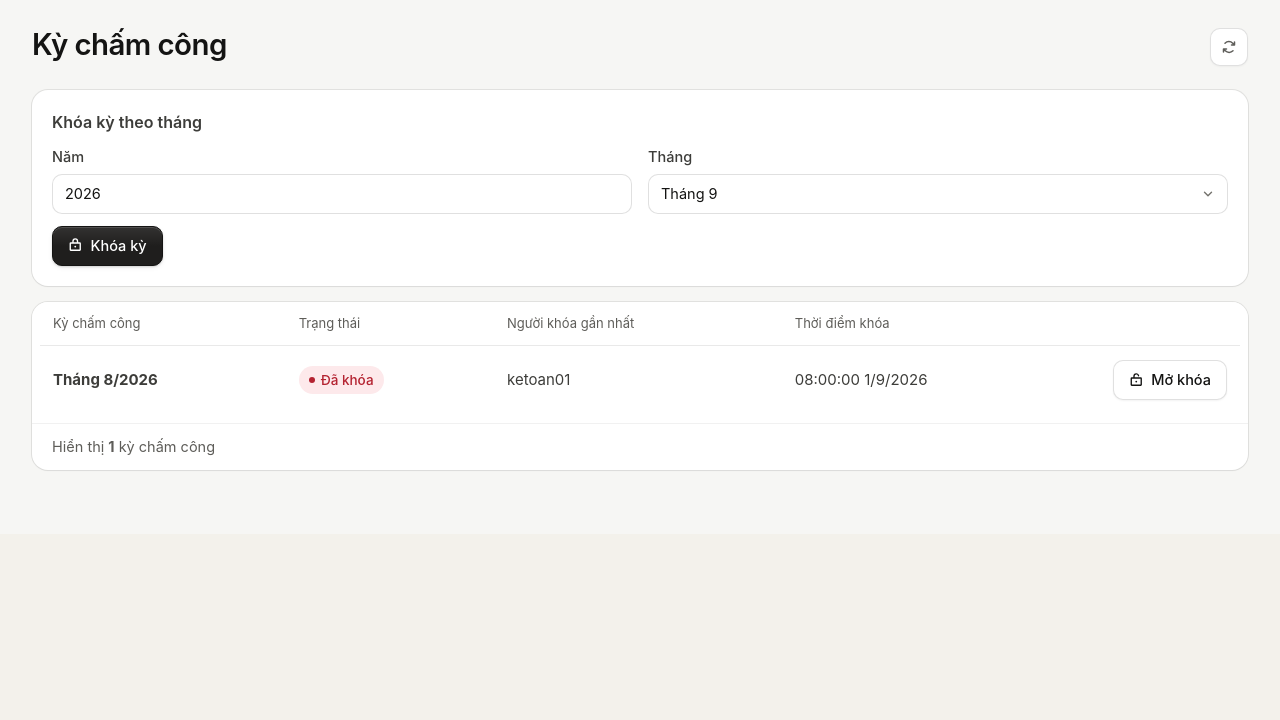
TimesheetPeriodPage (NCL-06-CN-006 — Khóa kỳ chấm công) › mở lại một kỳ đã khóa qua nút "Mở khóa"
The image size is (1280, 720).
Expected: the row with test id "period-row-2" is shown, [40, 346, 1240, 415]
Step 1. Click the button with test id "btn-unlock-2" → (1170, 380), box [1113, 360, 1227, 400]
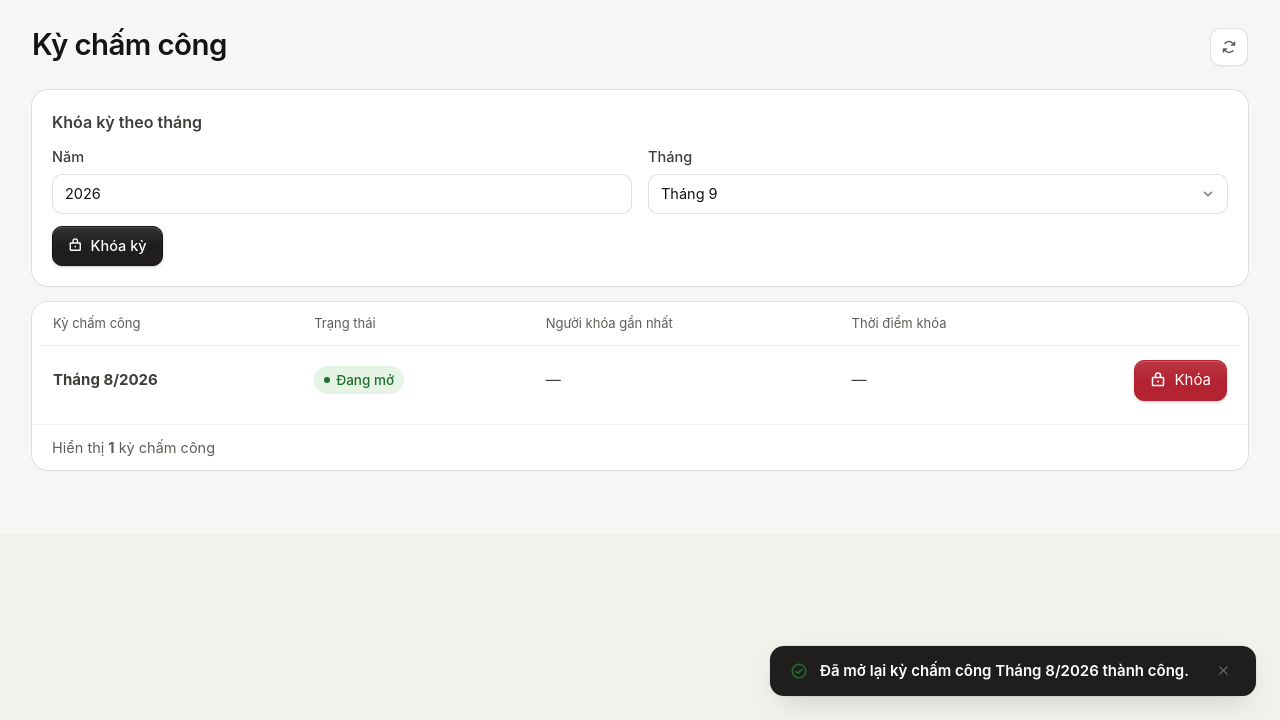
Result: the button with test id "btn-lock-2" is shown at [1134, 360, 1227, 400]
